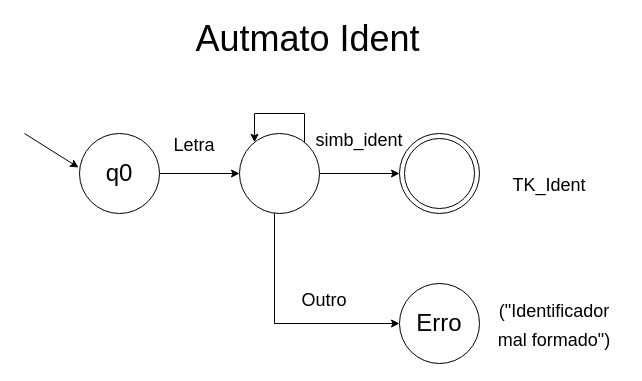
This 642x381 diagram has some shape labels left out. Here are the shapes that lost their labels. From the top down, the box of each, then its label:
(238, 132, 320, 214): q1
(404, 138, 474, 208): q2
